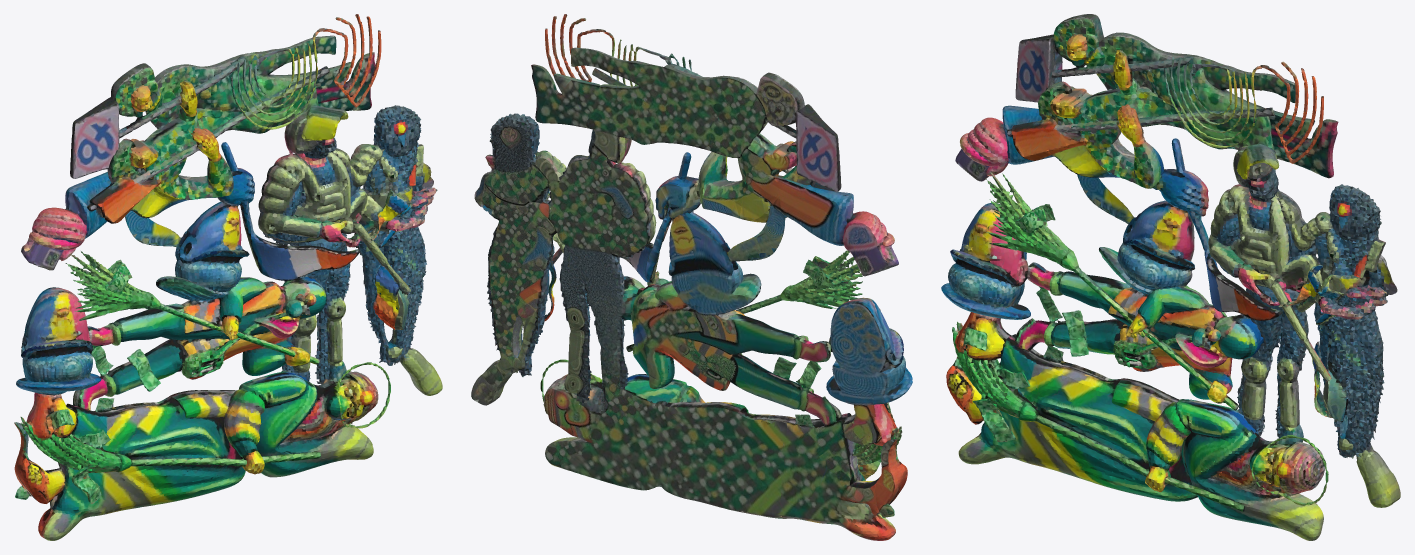
Rendered from irlo2_single.glb.
The picture shows the model from 3 angles, left to right: view 1: azimuth 30°, elevation 25°; view 2: azimuth 150°, elevation 25°; view 3: azimuth 330°, elevation 25°; orthographic projection. The views are drawn at different scales.
Visible parts, largest first — view 1: irlo2; view 2: irlo2; view 3: irlo2.
Boxes of the visible parts, <box> form: irlo2: <box>14,14,442,540</box>; irlo2: <box>471,14,912,540</box>; irlo2: <box>941,14,1400,540</box>.
Size of the model in its own units: 0.9888 by 0.9977 by 0.1262.
Materials: 1 (1 with a texture image).
